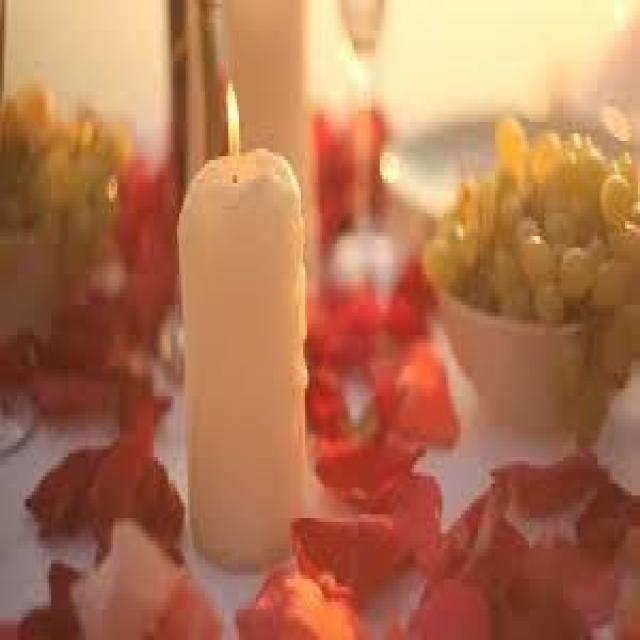fire: (221, 60, 249, 184)
